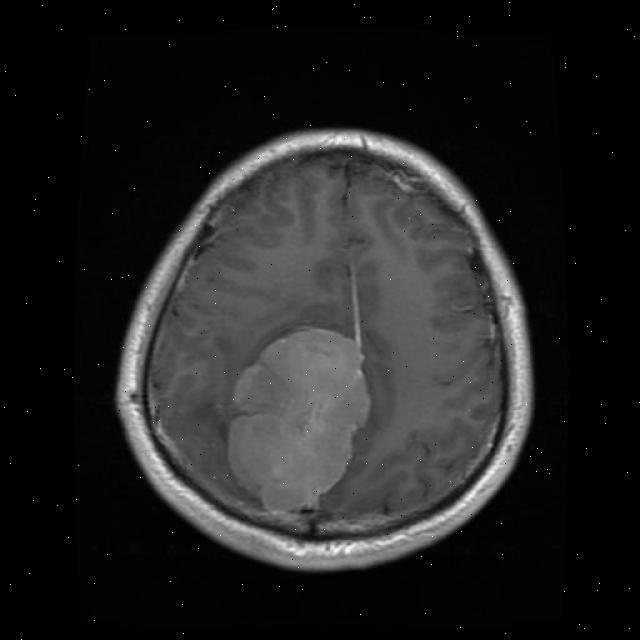Meningioma: (229, 329, 369, 509)
